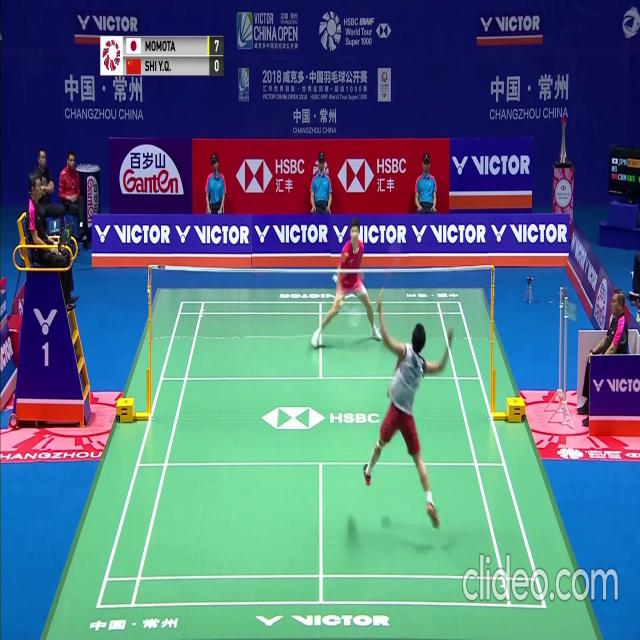Shuttlecock: (332, 274, 337, 282)
